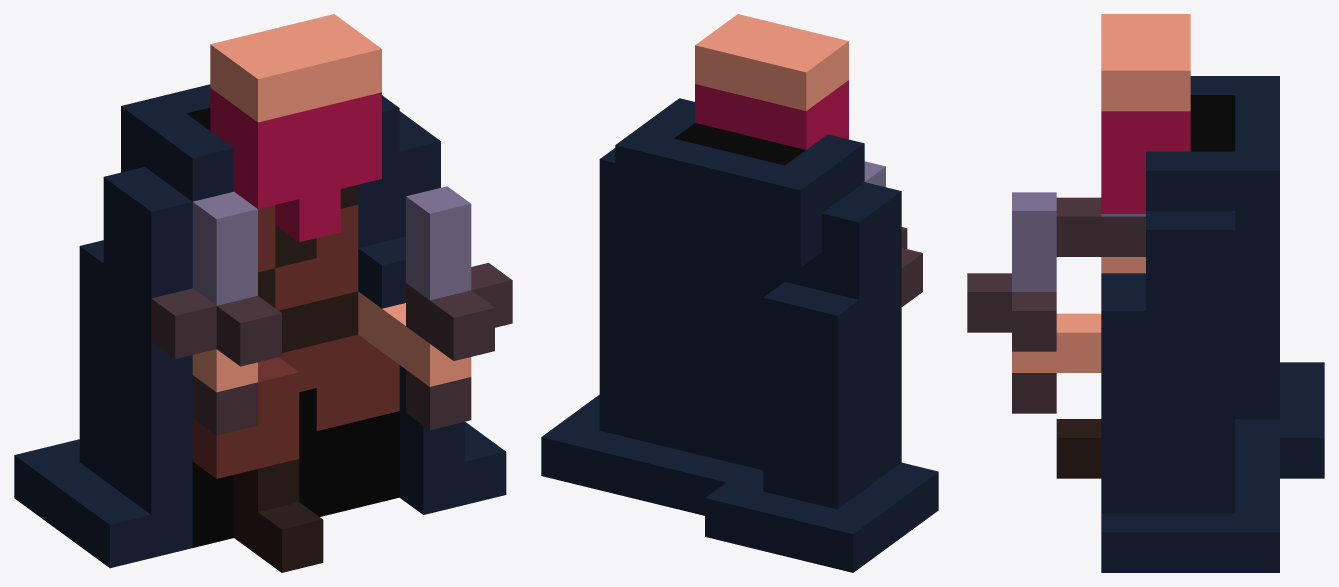
File: rogue_walk_0.obj
3 renders of one model, left to right at view 1: azimuth 30°, elevation 25°; view 2: azimuth 150°, elevation 25°; view 3: azimuth 270°, elevation 25°, orthographic. The views are drawn at different scales.
Bounding box in the file's own units: 0.9 × 1.1 × 0.8.
1 material, 1 textured.
